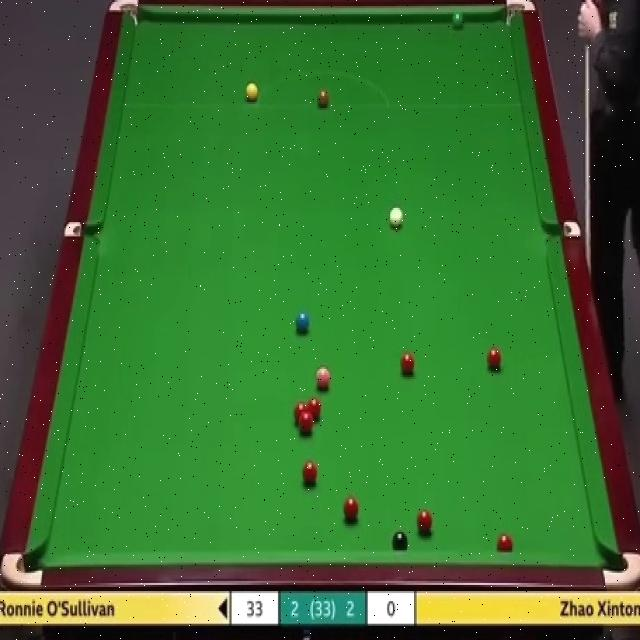black-ball: (391, 529, 408, 549)
blue-ball: (296, 312, 312, 334)
brown-ball: (316, 86, 331, 109)
green-ball: (452, 11, 465, 27)
pink-ball: (316, 365, 331, 392)
red-ball: (343, 494, 359, 523), (417, 507, 433, 534), (303, 459, 318, 485), (487, 346, 502, 370), (400, 351, 415, 375), (300, 411, 314, 434), (498, 532, 514, 552), (308, 396, 321, 419), (295, 403, 307, 416)
white-ball: (388, 204, 405, 229)
yellow-ball: (245, 81, 258, 101)
